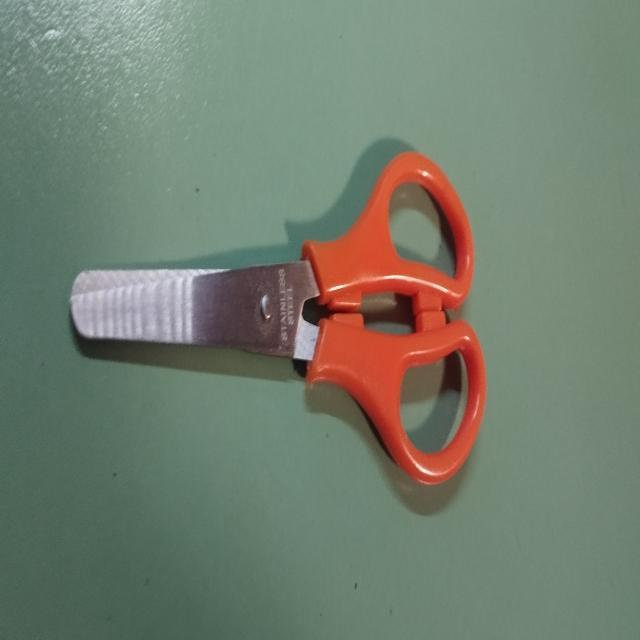tesoura: (61, 134, 488, 500)
